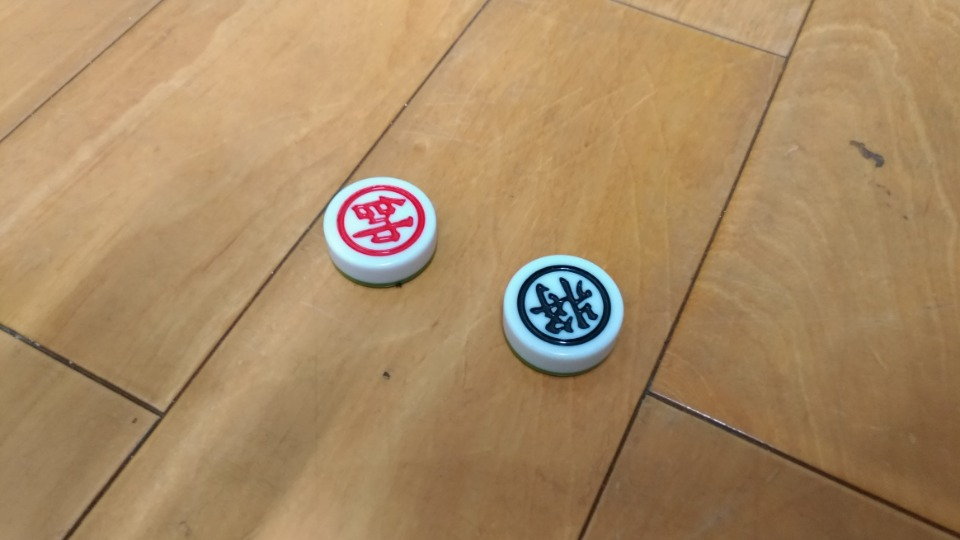b-king: (487, 257, 634, 378)
r-king: (307, 176, 451, 291)
